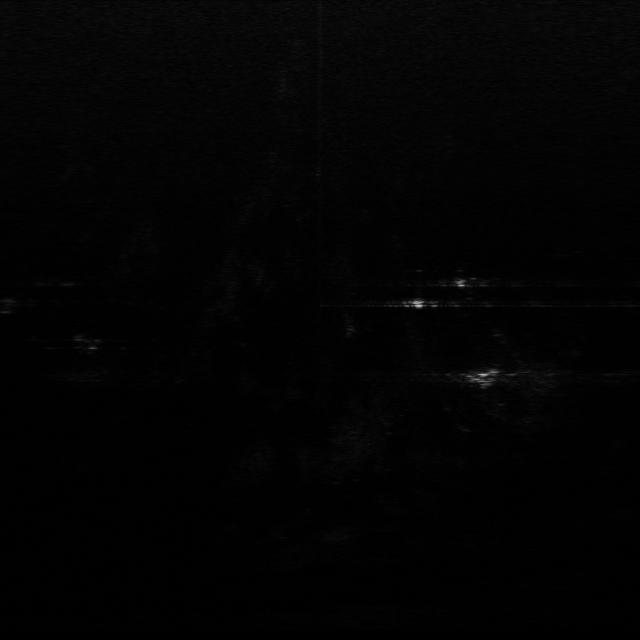rov: (463, 366, 512, 391)
